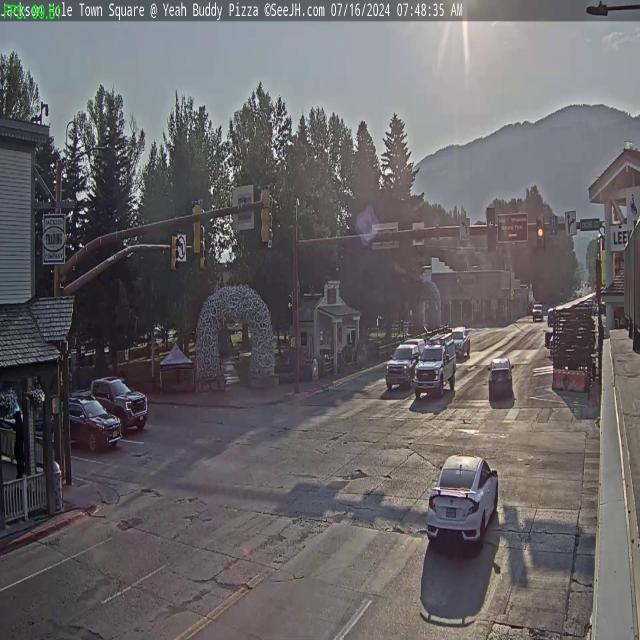pickup: (90, 376, 148, 433)
sedan: (426, 452, 500, 551), (488, 355, 514, 398)
suv: (61, 394, 122, 454), (447, 326, 470, 355)
traffic light: (260, 184, 272, 246), (191, 199, 203, 256), (486, 207, 497, 252), (170, 233, 179, 272), (537, 214, 544, 248), (201, 240, 208, 272)
truck: (414, 337, 457, 397), (384, 335, 423, 390)
